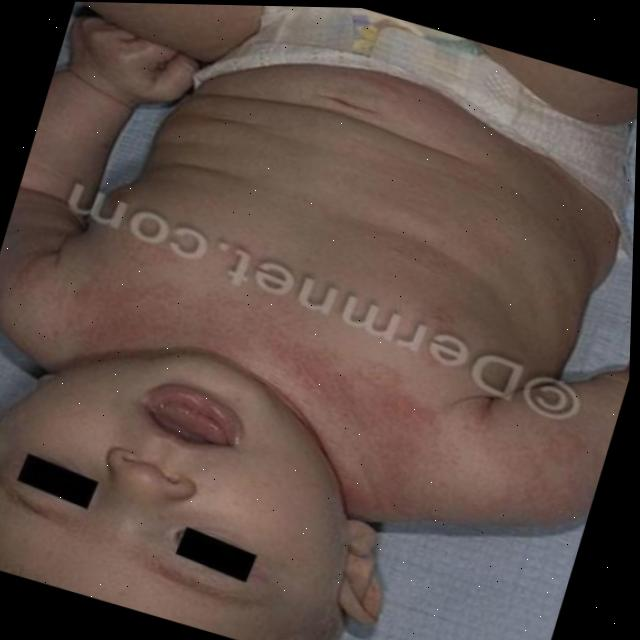Eczema: (49, 255, 464, 492)
